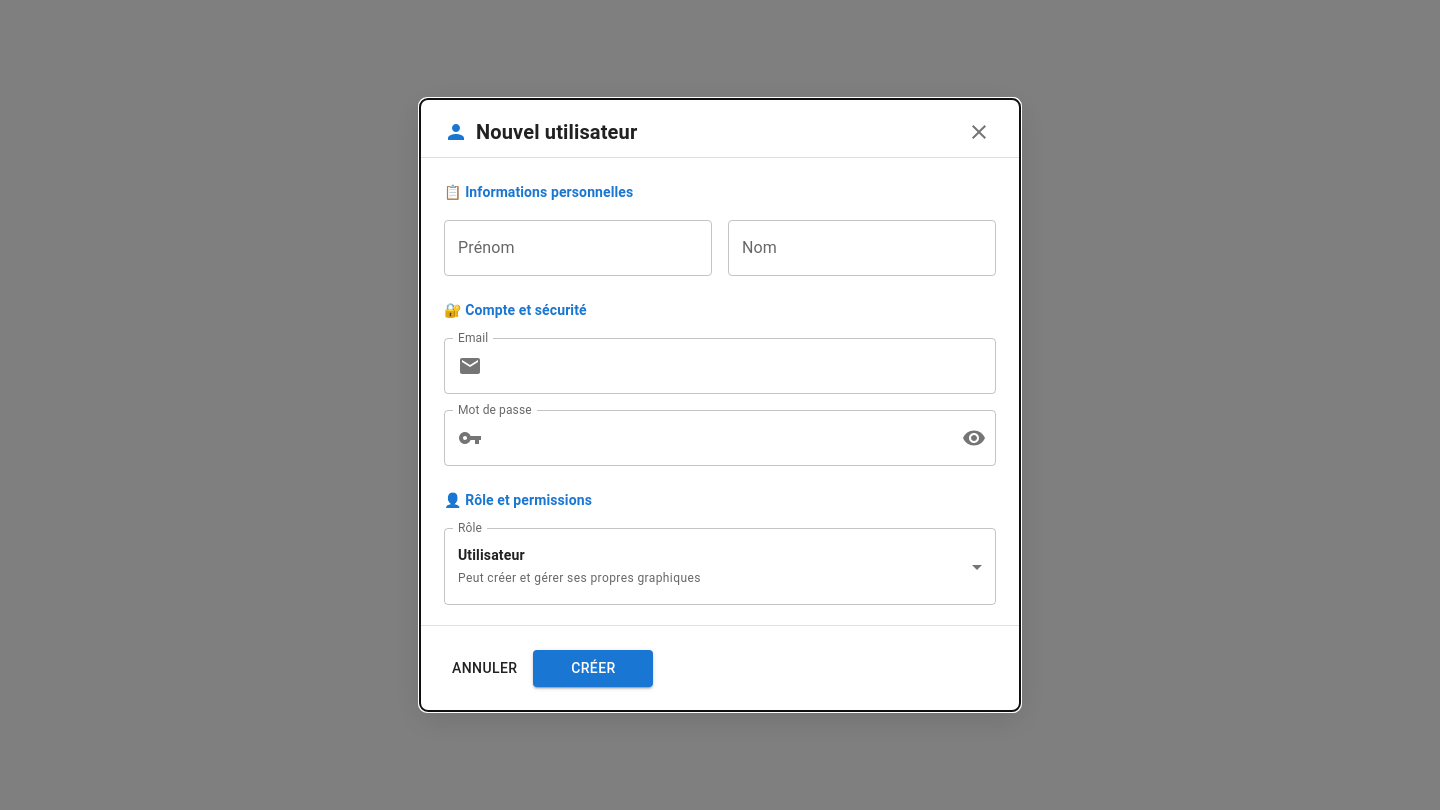
Test: UserManagementDialog — create mode › rejects password shorter than 6 chars
Type "a@b.com" into the field labelled "Email" at [743, 366], box [490,338,996,394]
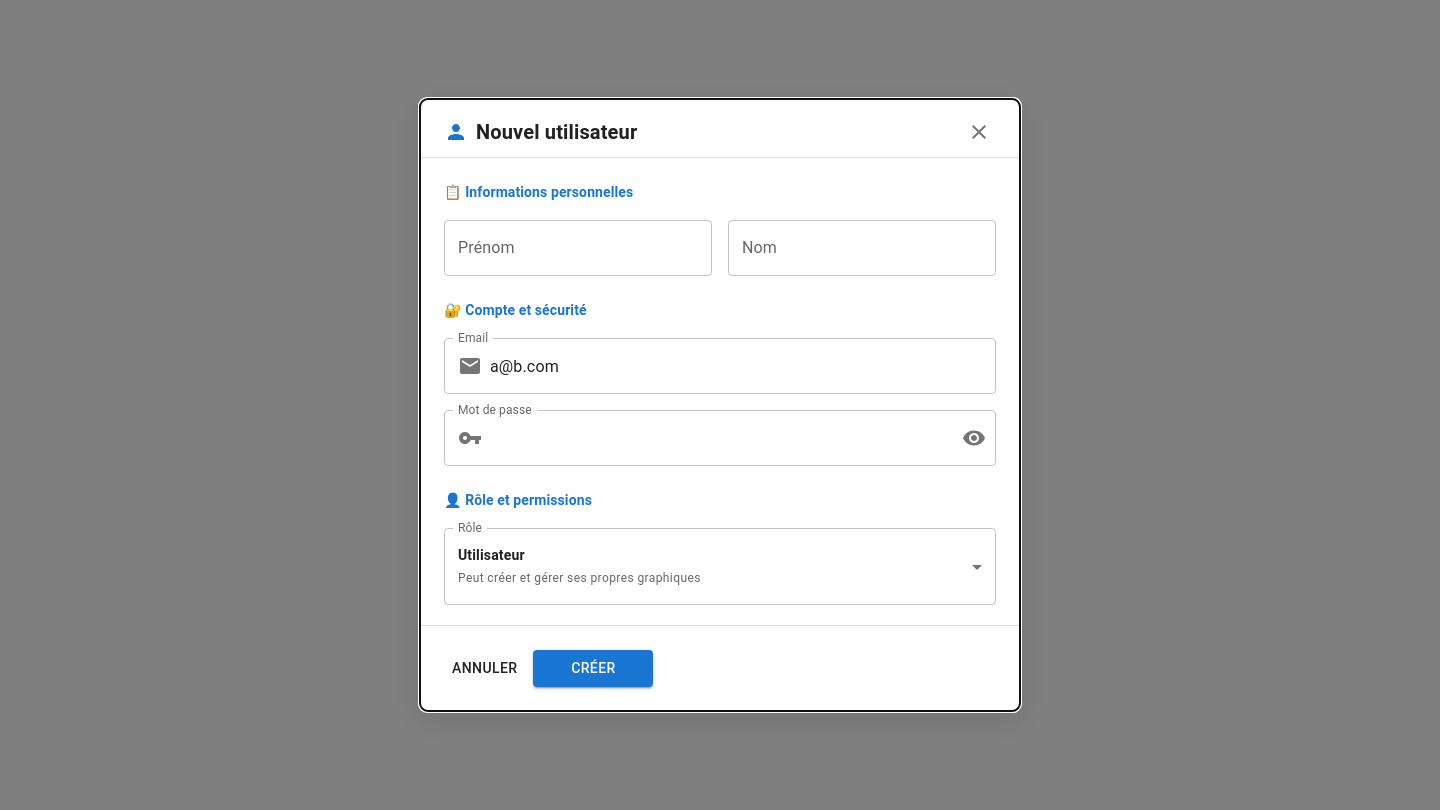
Type "A" into the field labelled "Prénom" at [578, 248], box [444,220,712,276]
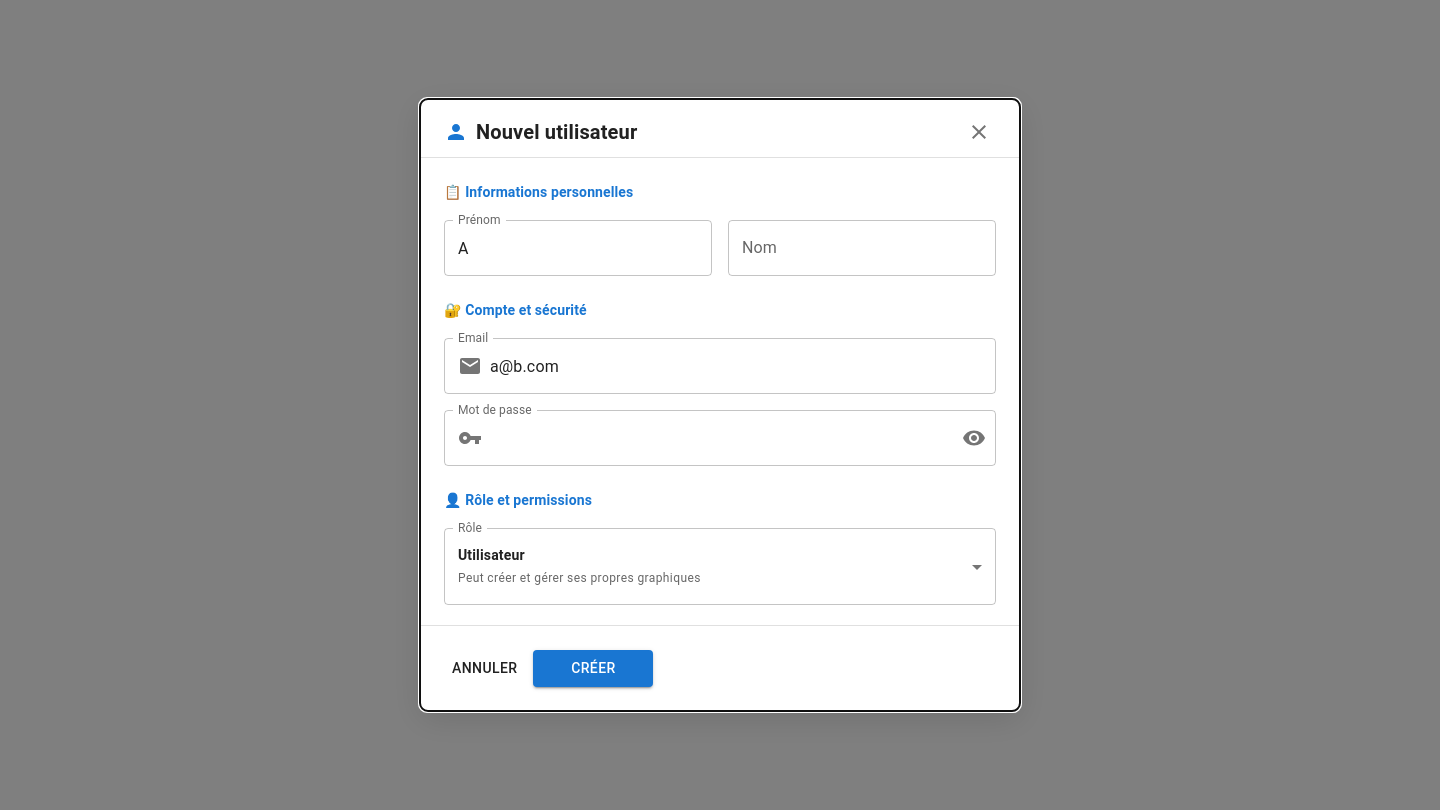
Type "B" into the field labelled "Nom" at [862, 248], box [728,220,996,276]
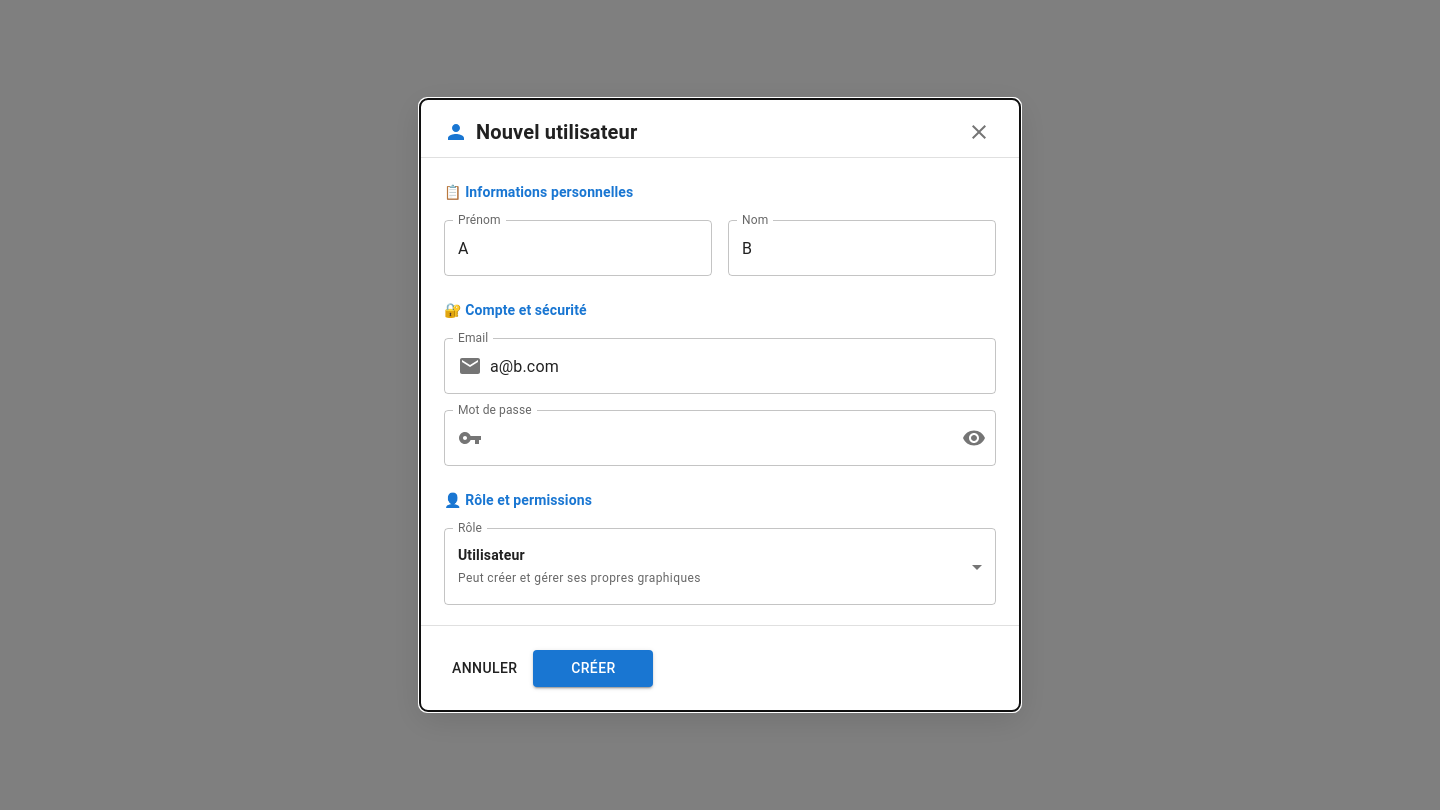
Type "abc" into the password field labelled "Mot de passe" at [718, 438], box [490,410,946,466]
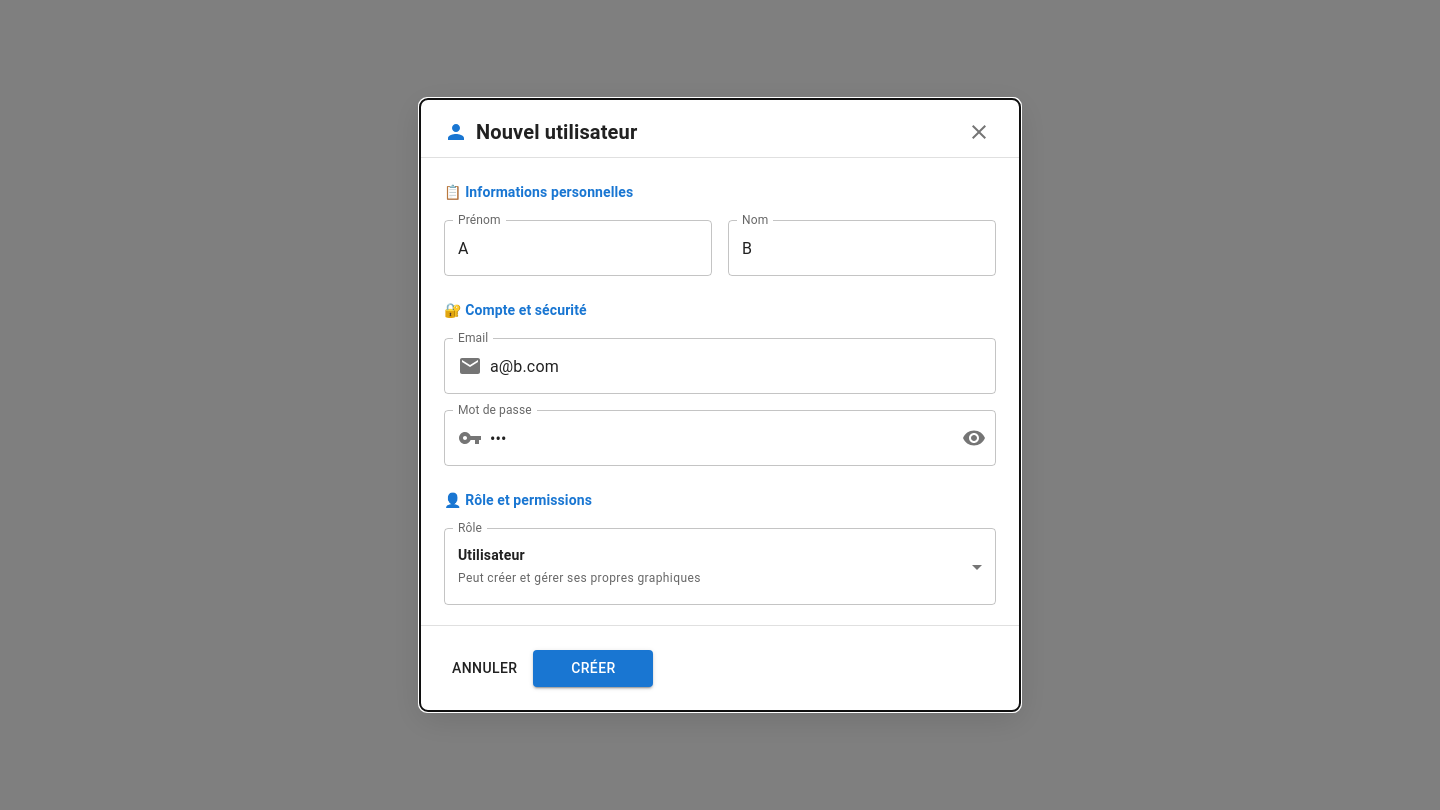
Click the button "Créer" at [593, 668], box [533,650,653,687]
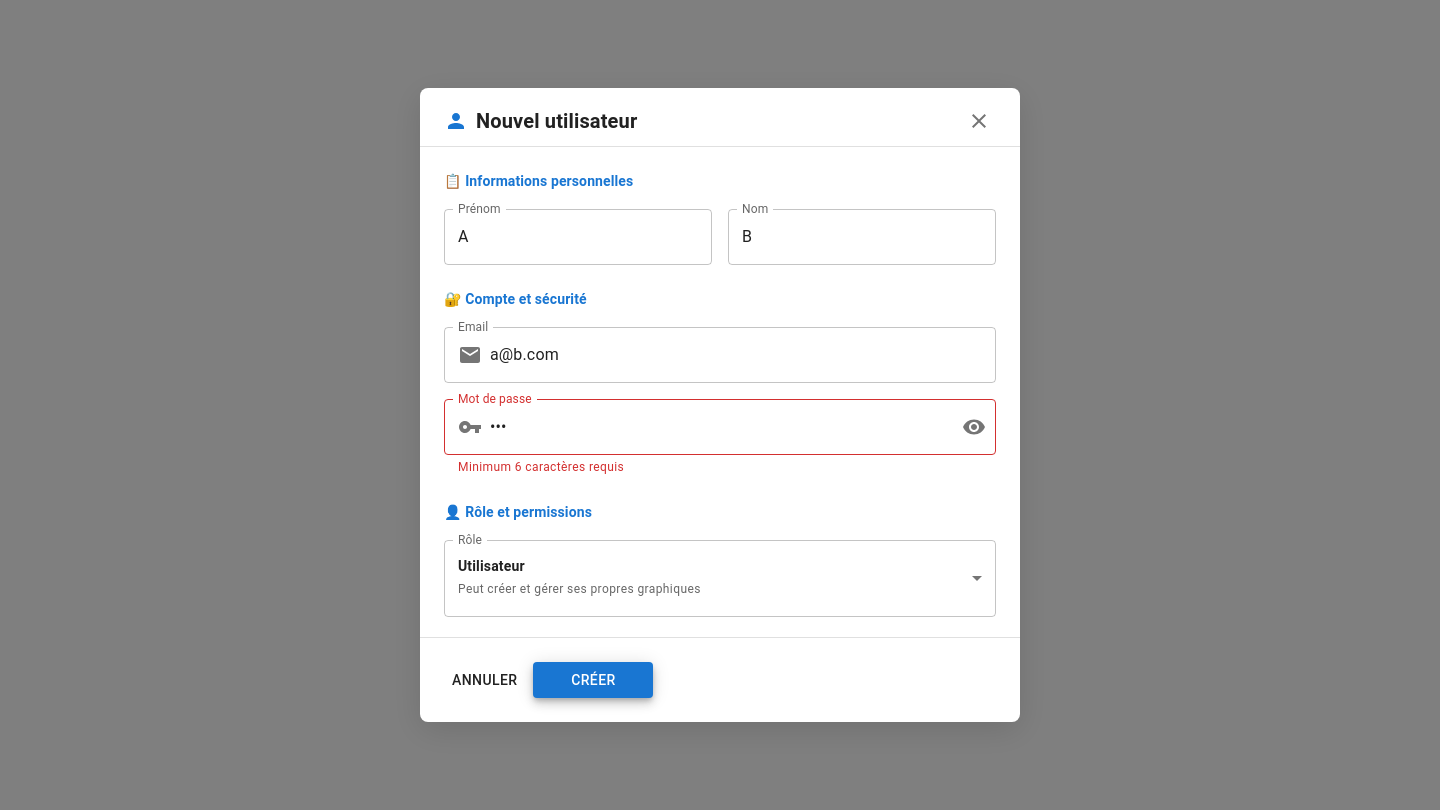
Now the text "Minimum 6 caractères requis" is shown, box [458,460,624,474]
